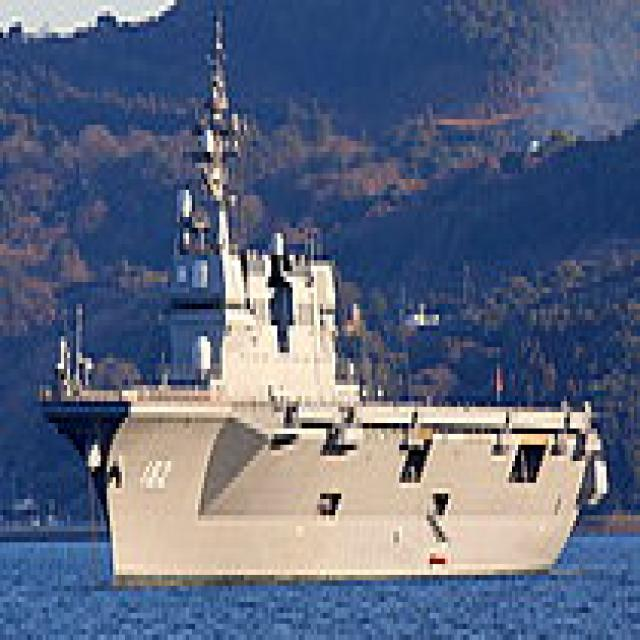Warship: (34, 5, 606, 575)
